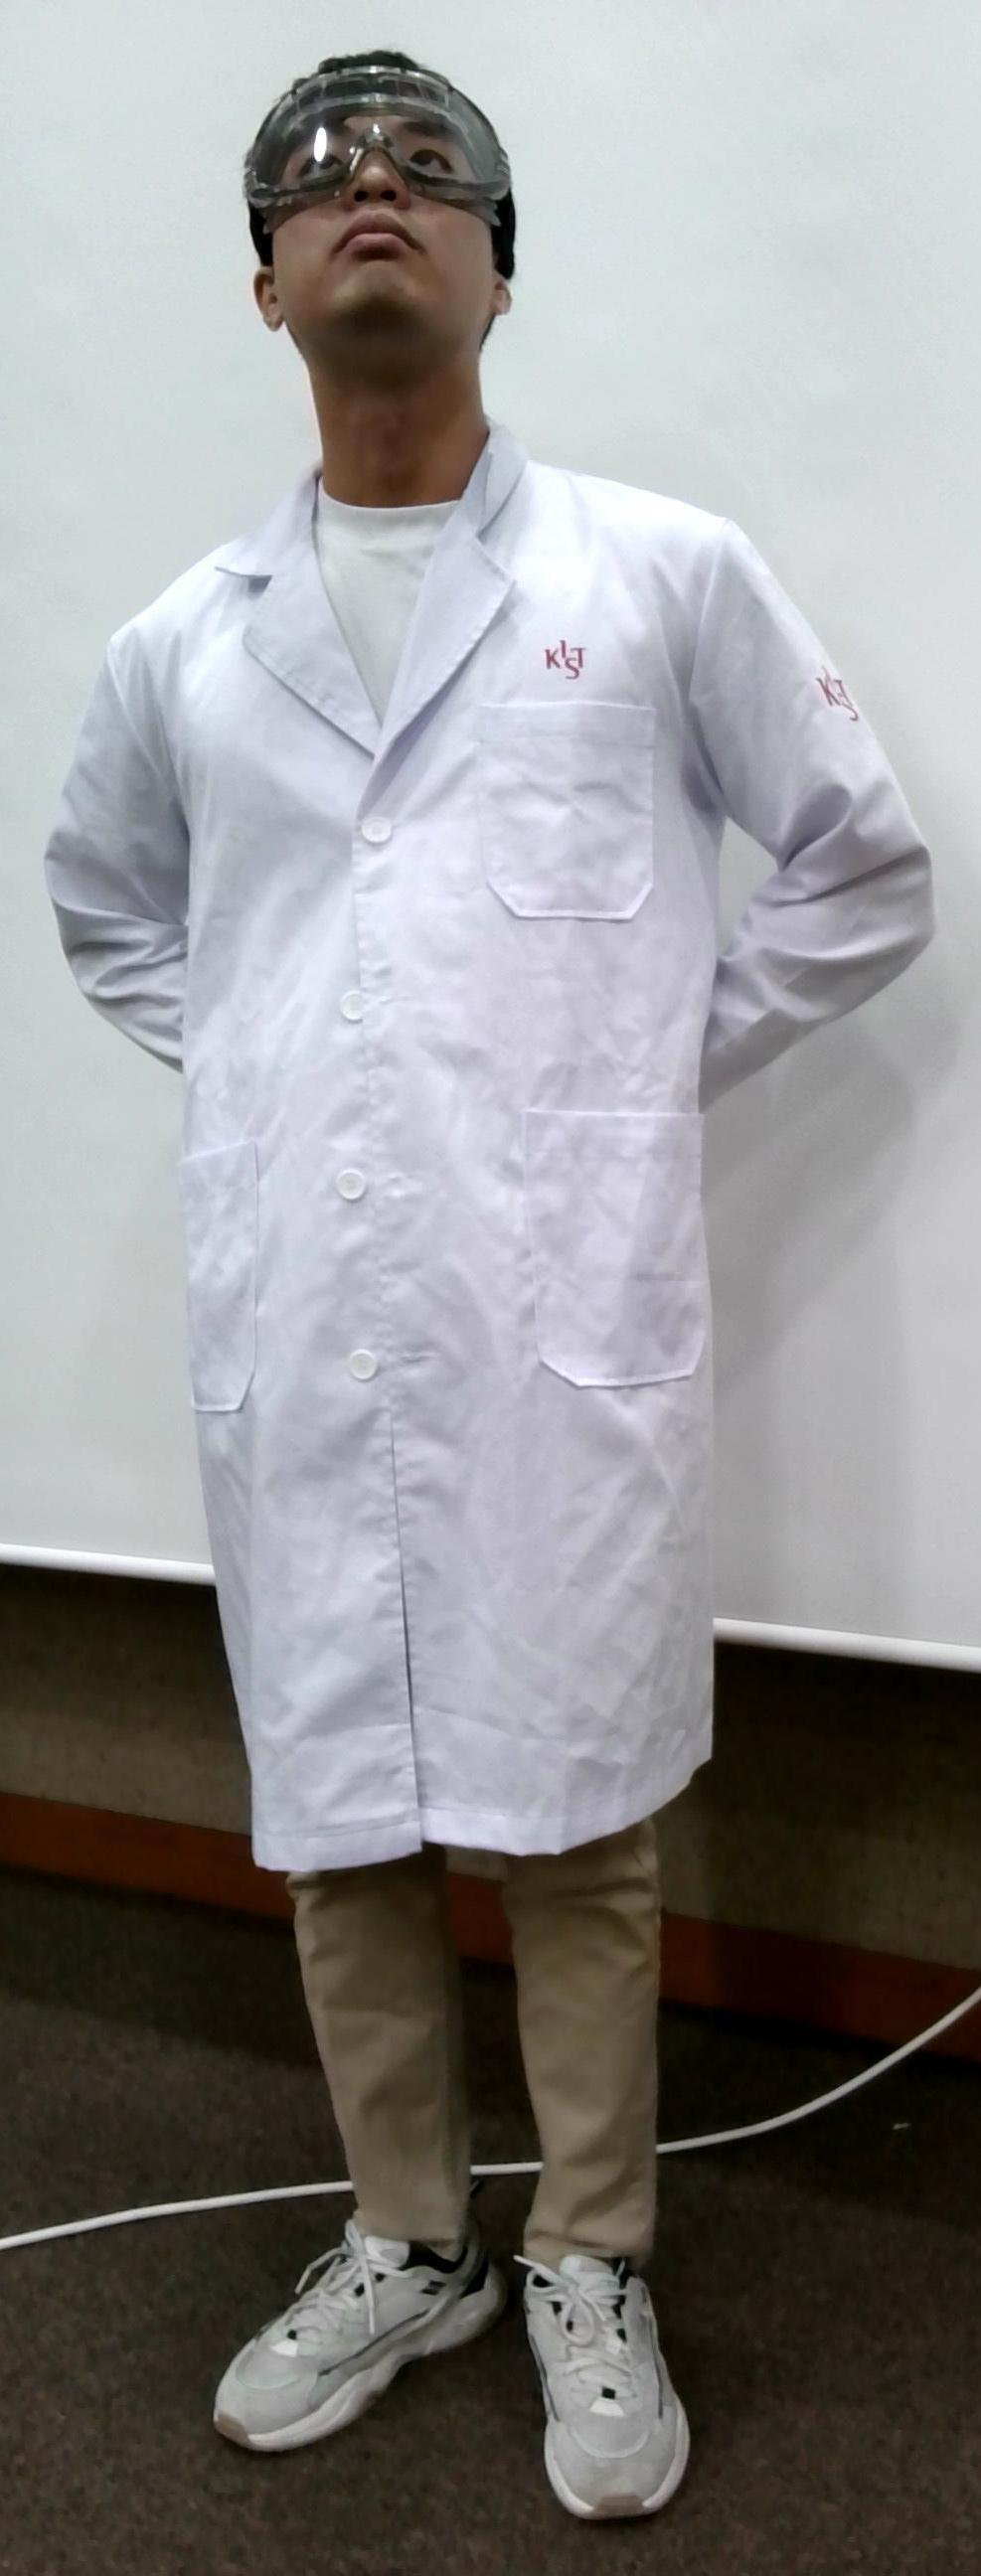lab_coat: (130, 562, 759, 1828)
